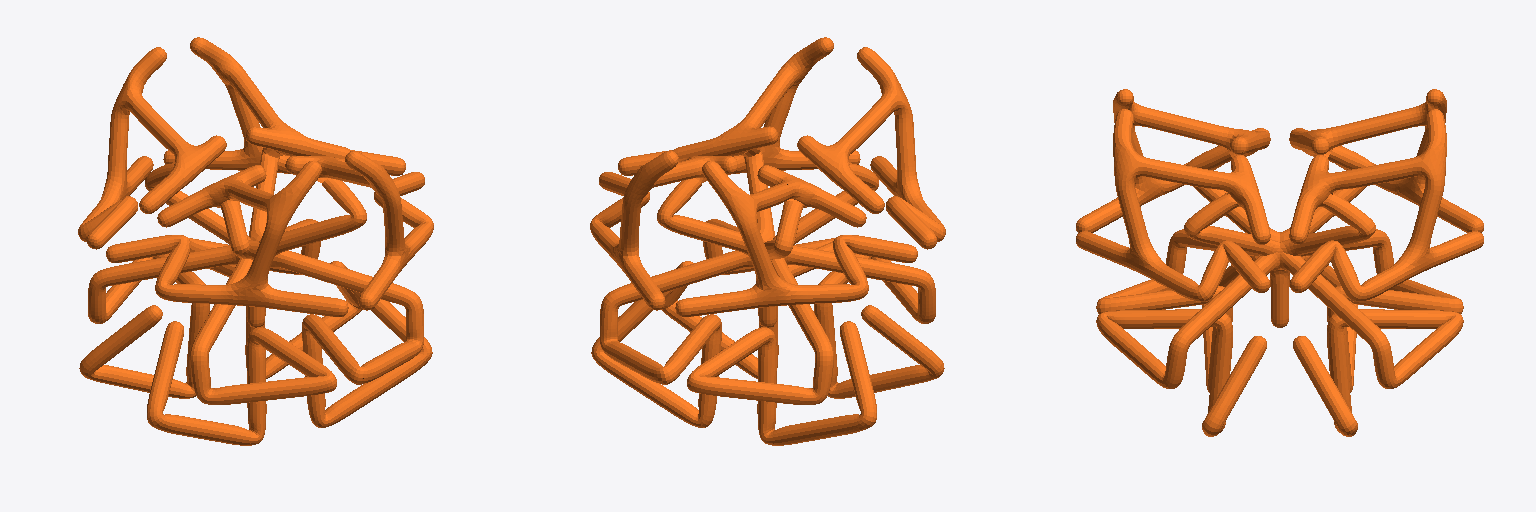
3 views of the same model, side by side, from view 1: azimuth 30°, elevation 25°; view 2: azimuth 150°, elevation 25°; view 3: azimuth 270°, elevation 25° (orthographic).
Visible parts, largest first — view 1: Cube; view 2: Cube; view 3: Cube.
Part boxes in pixels (x1,y1,x2,y2): Cube: (78, 37, 433, 445); Cube: (590, 37, 945, 445); Cube: (1076, 89, 1483, 436).
Size of the model in its own units: 8.91 by 8.4 by 9.96.
1 materials, 1 textured.